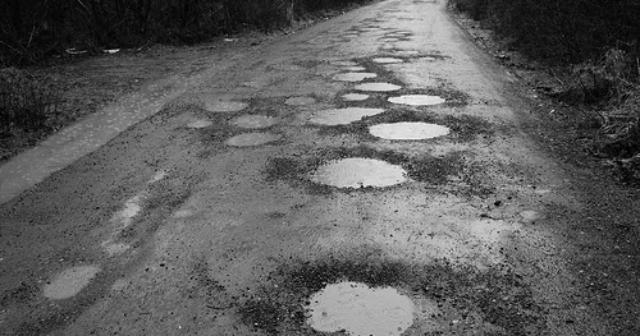Pothole: (298, 276, 420, 336), (304, 153, 414, 197), (41, 256, 104, 302), (307, 100, 388, 130), (367, 122, 465, 144), (224, 110, 284, 130), (222, 130, 284, 148), (350, 81, 406, 94), (388, 95, 447, 107), (328, 70, 379, 82), (203, 100, 250, 112), (284, 92, 318, 107), (184, 118, 214, 130), (372, 54, 402, 64), (244, 78, 272, 88), (340, 62, 366, 72), (329, 58, 357, 66)
